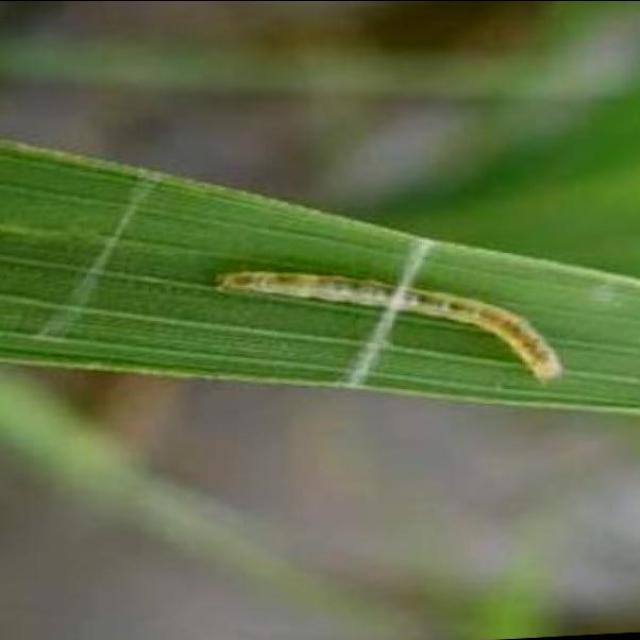leaf folder: (221, 271, 561, 380)
